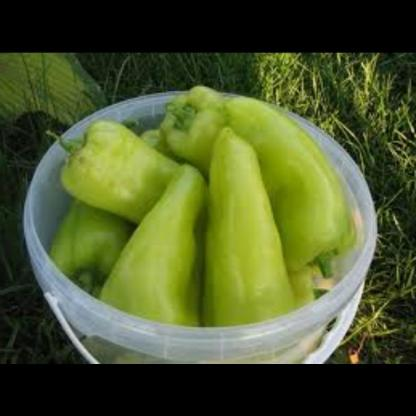bell pepper: (228, 93, 356, 266), (199, 117, 295, 332), (97, 158, 212, 324), (63, 118, 208, 218), (48, 187, 139, 286), (153, 83, 238, 159)
